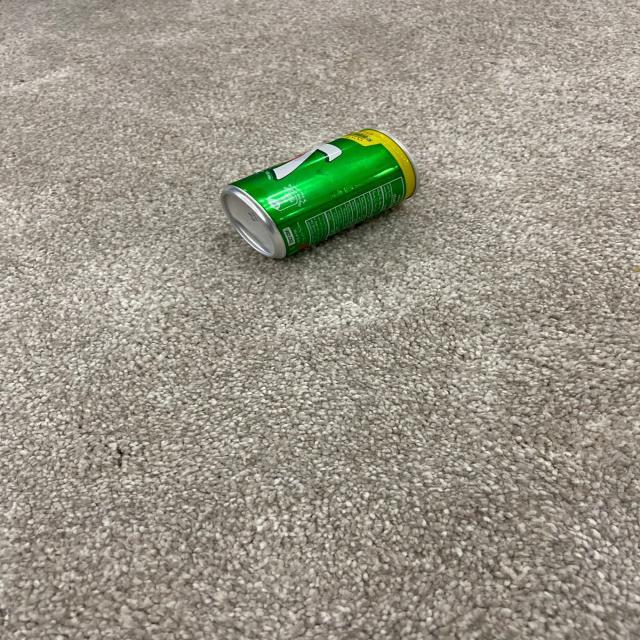can: (218, 126, 420, 265)
